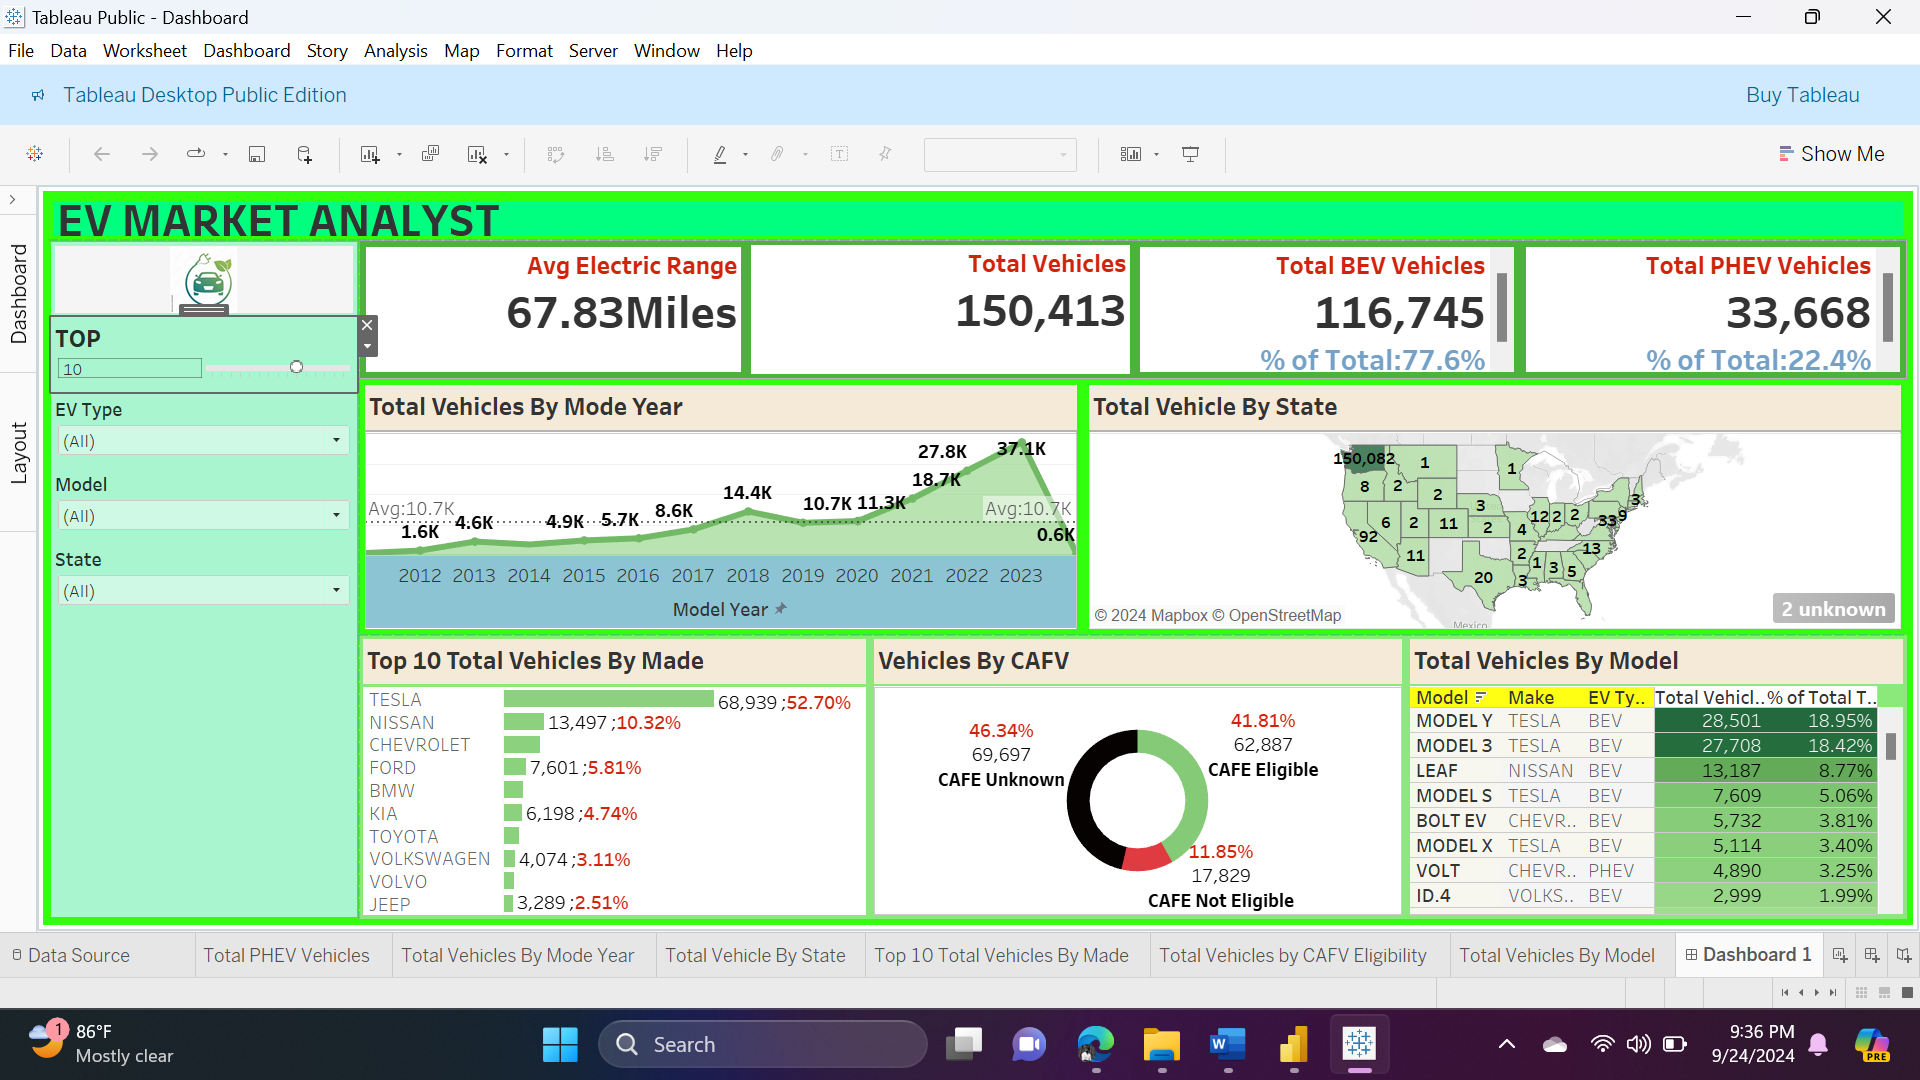

The dashboard page shown, as its layout file describes it:
{"tool":"tableau","page":{"name":"Dashboard 1","canvas":[1000,1000],"units":"permille","ordinal":0},"visuals":[{"type":"title","box":[6.4,16.1,987.2,58.3]},{"type":"worksheet","title":"Avg of Electric Vehicle","mark":"Automatic","box":[171.6,75.1,205.6,183.6]},{"type":"worksheet","title":"Total Vehicles","mark":"Automatic","box":[377.3,75.1,205.6,183.6]},{"type":"worksheet","title":"Total BEV  Vehicles","mark":"Automatic","box":[582.9,75.1,205.1,183.6]},{"type":"worksheet","title":"Total PHEV Vehicles ","mark":"Automatic","box":[788,75.1,205.1,183.6]},{"type":"image","param":"C:/Users/user/Downloads/ev logo.jpg","box":[7.4,76.4,162.6,100.5]},{"type":"parameter","param":"[Parameters].[Parameter 1]","box":[7.4,176.9,162.6,100.5]},{"type":"worksheet","title":"Total Vehicles By Mode Year","mark":"Area","rows":["Calculation_894527539586084864","Calculation_894527539586084864"],"cols":["Model Year"],"box":[171,260.7,384.8,342.7]},{"type":"worksheet","title":"Total Vehicle By State","mark":"Multipolygon","box":[555.7,260.7,437.9,342.7]},{"type":"filter","title":"Total Vehicles By Mode Year","param":"[federated.0dr53rw12jfe450zn8igq1kzjv1u].[none:Electric Vehicle Type:nk]","box":[7.4,277.5,162.6,100.5]},{"type":"filter","title":"Total Vehicles By Mode Year","param":"[federated.0dr53rw12jfe450zn8igq1kzjv1u].[none:Model:nk]","box":[7.4,378,162.6,100.5]},{"type":"filter","title":"Total Vehicles By Mode Year","param":"[federated.0dr53rw12jfe450zn8igq1kzjv1u].[none:State:nk]","box":[7.4,478.6,162.6,100.5]},{"type":"blank","box":[7.4,579.1,162.6,100.5]},{"type":"worksheet","title":"Top 10 Total Vehicles By Made","mark":"Automatic","rows":["Make"],"cols":["Calculation_894527539586084864"],"box":[171,603.4,271.9,380.5]},{"type":"worksheet","title":"Total Vehicles by CAFV Eligibility","mark":"Pie","rows":["Calculation_894527539639939081","Calculation_894527539639939081"],"box":[442.9,603.4,284.6,380.5]},{"type":"worksheet","title":"Total Vehicles By Model","mark":"Square","rows":["Model","Make","Electric Vehicle Type"],"box":[727.4,603.4,266.2,380.5]},{"type":"blank","box":[7.4,679.6,162.6,100.5]},{"type":"blank","box":[7.4,780.2,162.6,100.5]},{"type":"blank","box":[7.4,880.7,162.6,100.5]}]}

Visuals, with their boxes on the dashboard's canvas, which has no fixed pixel size, in thousandths of its width and height (x1, y1, x2, y2). These are canvas units, not pixel positions in the 1920x1080 screenshot, which may show the page scaled, cropped or inside an application window:
title: crop(6, 16, 994, 74)
"Avg of Electric Vehicle" worksheet: crop(172, 75, 377, 259)
"Total Vehicles" worksheet: crop(377, 75, 583, 259)
"Total BEV  Vehicles" worksheet: crop(583, 75, 788, 259)
"Total PHEV Vehicles " worksheet: crop(788, 75, 993, 259)
image: crop(7, 76, 170, 177)
parameter: crop(7, 177, 170, 277)
"Total Vehicles By Mode Year" worksheet (Area marks): crop(171, 261, 556, 603)
"Total Vehicle By State" worksheet (Multipolygon marks): crop(556, 261, 994, 603)
"Total Vehicles By Mode Year" filter: crop(7, 278, 170, 378)
"Total Vehicles By Mode Year" filter: crop(7, 378, 170, 478)
"Total Vehicles By Mode Year" filter: crop(7, 479, 170, 579)
blank: crop(7, 579, 170, 680)
"Top 10 Total Vehicles By Made" worksheet: crop(171, 603, 443, 984)
"Total Vehicles by CAFV Eligibility" worksheet (Pie marks): crop(443, 603, 728, 984)
"Total Vehicles By Model" worksheet (Square marks): crop(727, 603, 994, 984)
blank: crop(7, 680, 170, 780)
blank: crop(7, 780, 170, 881)
blank: crop(7, 881, 170, 981)
